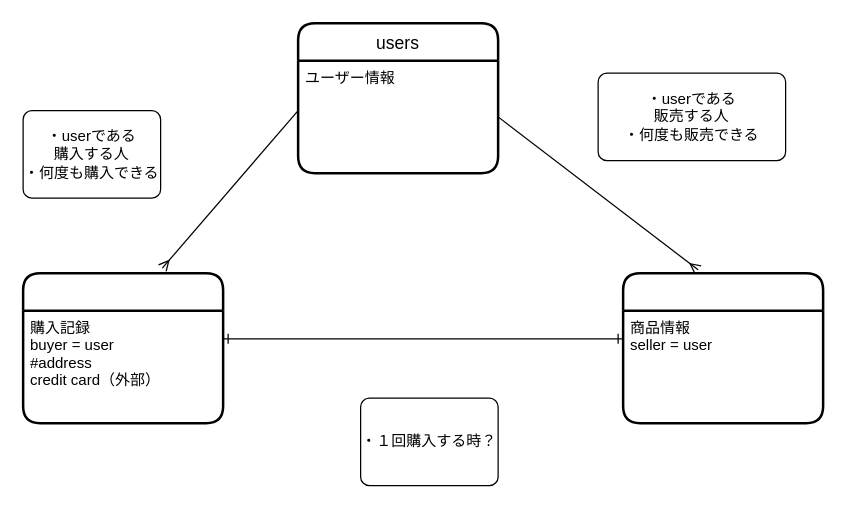
Some shapes in this 845 by 508 pixel diagram are drawn without their labels. The shapes that lost their labels are listed below. From the top down, each one's box as (x1, y1, x2, y2) in pixels, then its label:
(21, 271, 224, 424): orders
(621, 271, 824, 424): selling items
